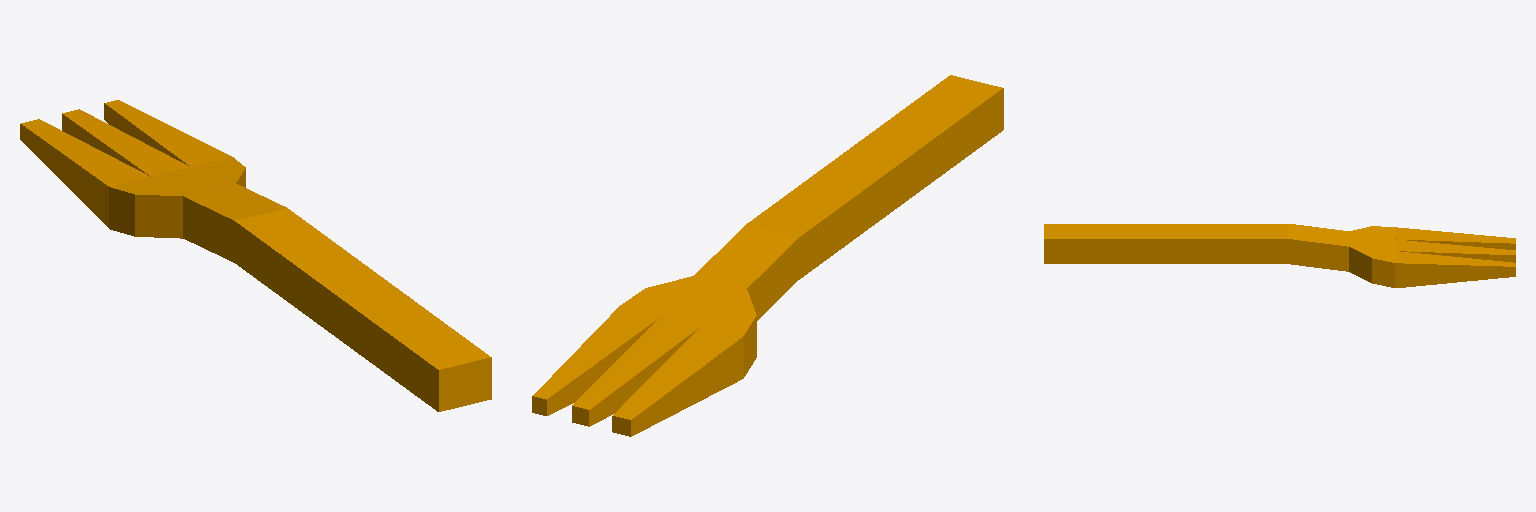
The robot description file, URDF, robot "Fork":
<robot name="Fork">
    <link name="fork">
        <visual>
            <geometry>
                <mesh filename="meshes/fork.obj"/>
            </geometry>
        </visual>
        <collision>
            <geometry>
                <mesh filename="meshes/fork.obj"/>
            </geometry>
        </collision>
    </link>
</robot>

--- Render facts (derived) ---
Views: 3 orthographic renders of the robot side by side, from view 1: azimuth 30°, elevation 25°; view 2: azimuth 150°, elevation 25°; view 3: azimuth 270°, elevation 25°.
Model Fork with 1 links and 0 joints (none), rooted at fork, posed all joints at 0.
Links seen in each view (by area): view 1: fork; view 2: fork; view 3: fork.
Boxes of the visible links, bbox=[...] form: fork: bbox=[20, 100, 491, 411]; fork: bbox=[532, 75, 1003, 436]; fork: bbox=[1044, 224, 1515, 287].
Bounding box of the posed robot: 0.0051 × 0.0281 × 0.0026 m (x, y, z).
Meshes: 1 distinct files referenced, 1 mesh visuals loaded (1 OBJ).